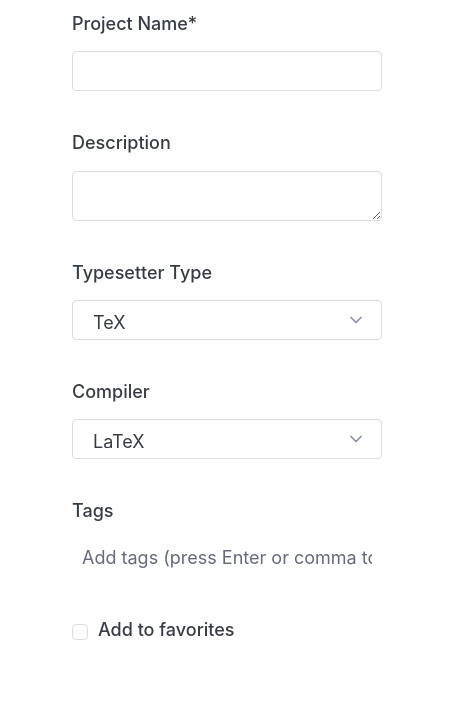
ProjectForm Component › should add and remove tags
This screenshot has width=455, height=708.
In the field with placeholder "Add tags (press Enter or comma to add)": x=227, y=558 [82,546,372,571], type "test-tag"
Then press Enter
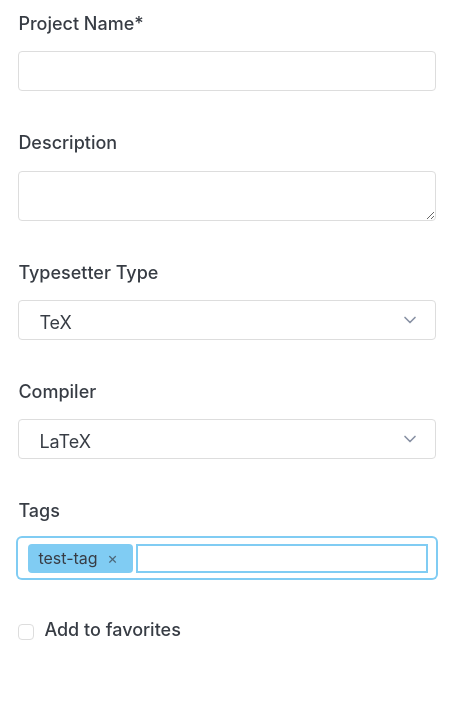
Expected: the text "test-tag" is shown, [38,548,98,568]
Click the button "×": x=113, y=558 [103,549,123,568]
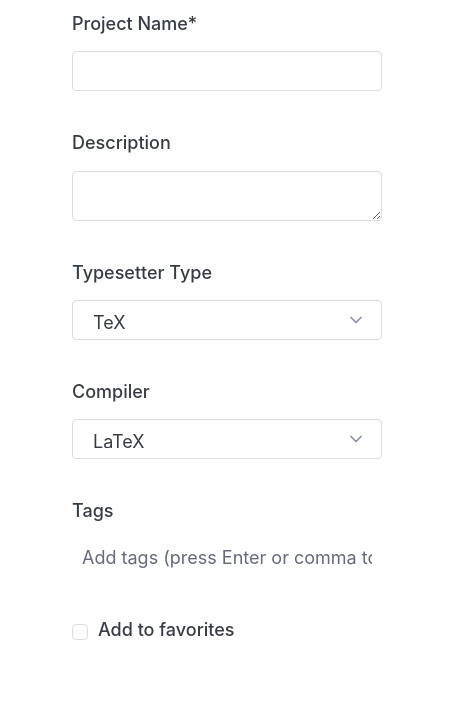
Expected: the text "test-tag" is gone
